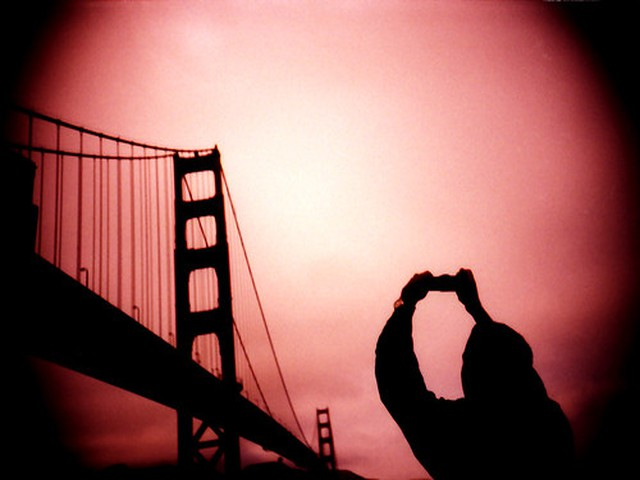Person: (370, 267, 580, 472)
